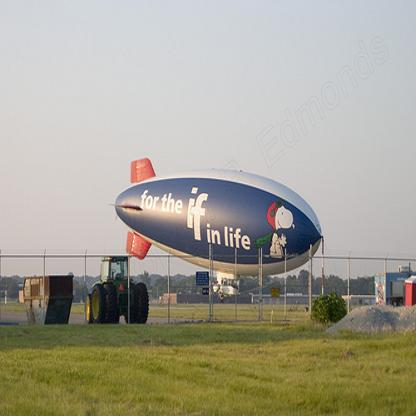Airship: (112, 154, 329, 284)
